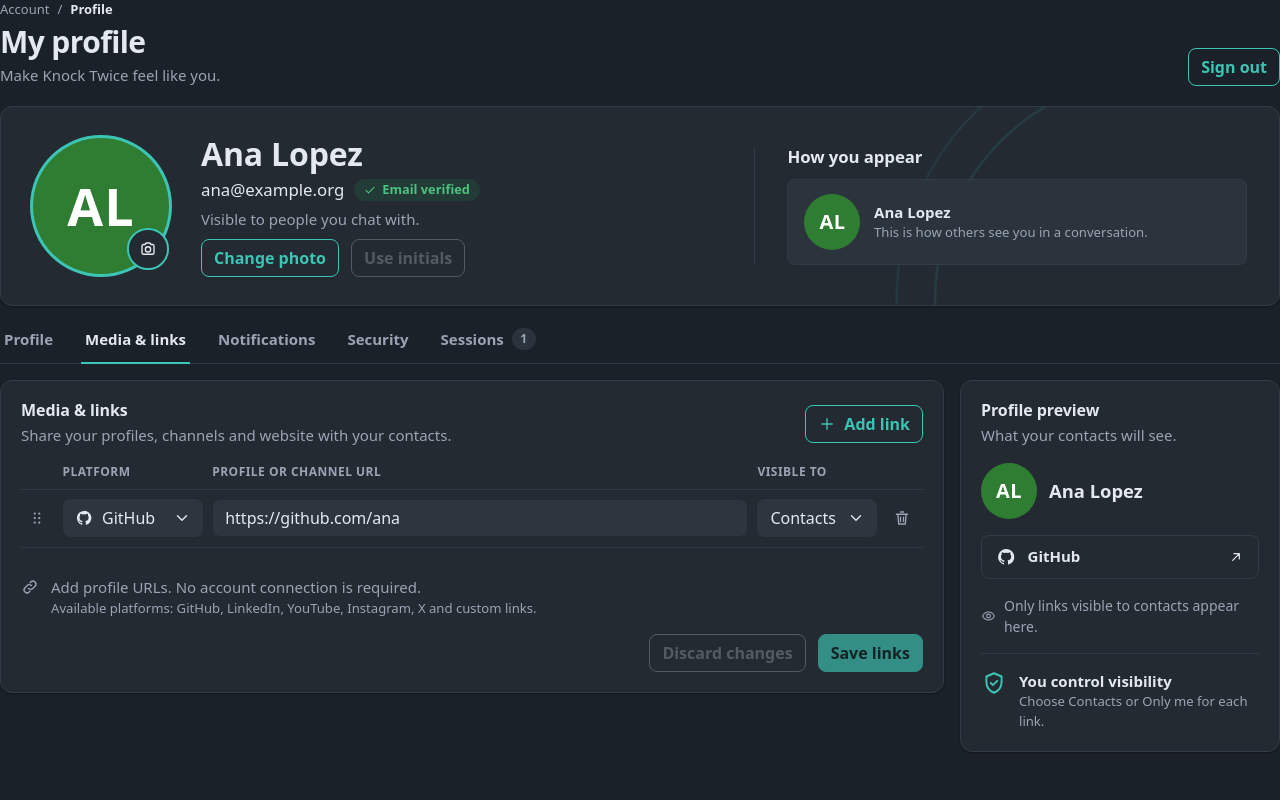
Test: My profile (redesign 2026-11) › edits links: add, reorder, choose who sees them, report a wrong address, then save
Check: the button "Save links" is disabled, box [818,634,923,672]
Click the button "Add link" at (864, 424), box [805,405,923,443]
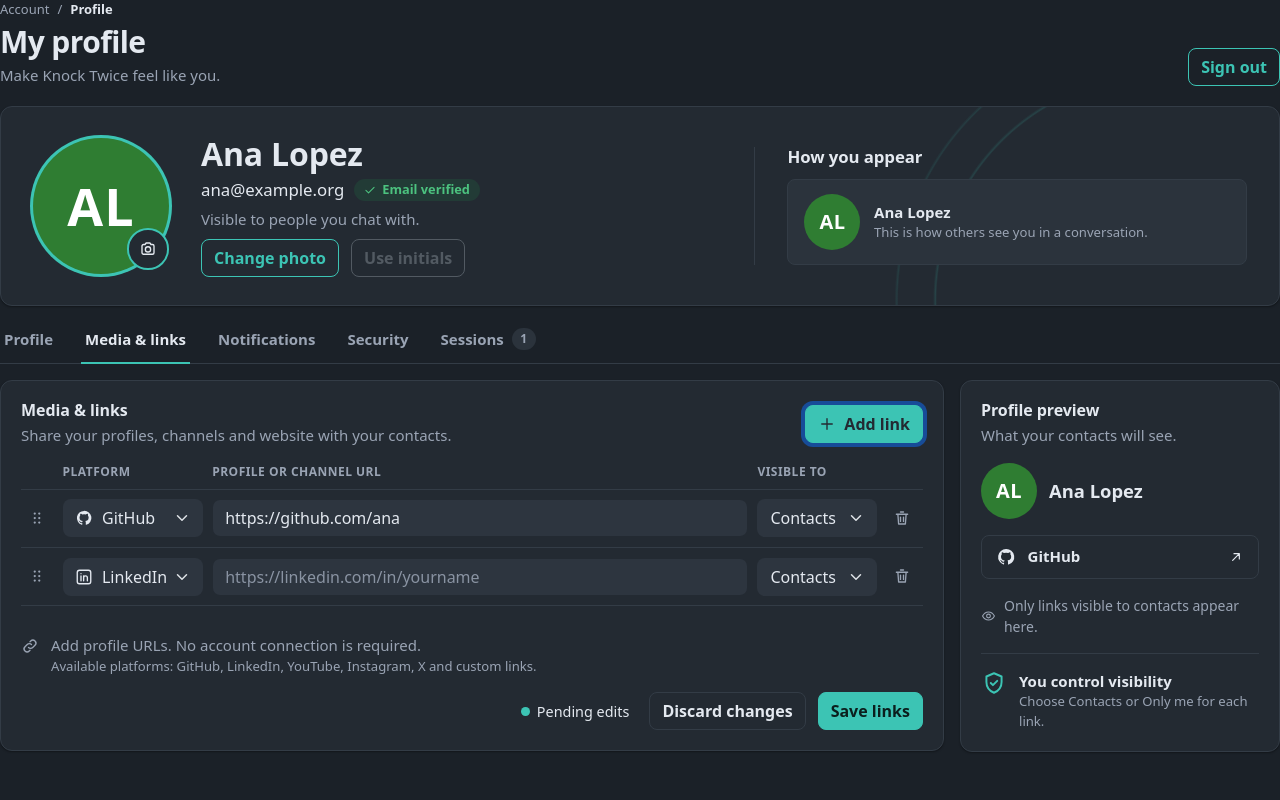
Check: the 3rd dropdown named "Platform" shows "LinkedIn", box [63,558,203,596]
Type "https://example.com/ana" into the field named "LinkedIn address" at (480, 577), box [212,558,748,596]
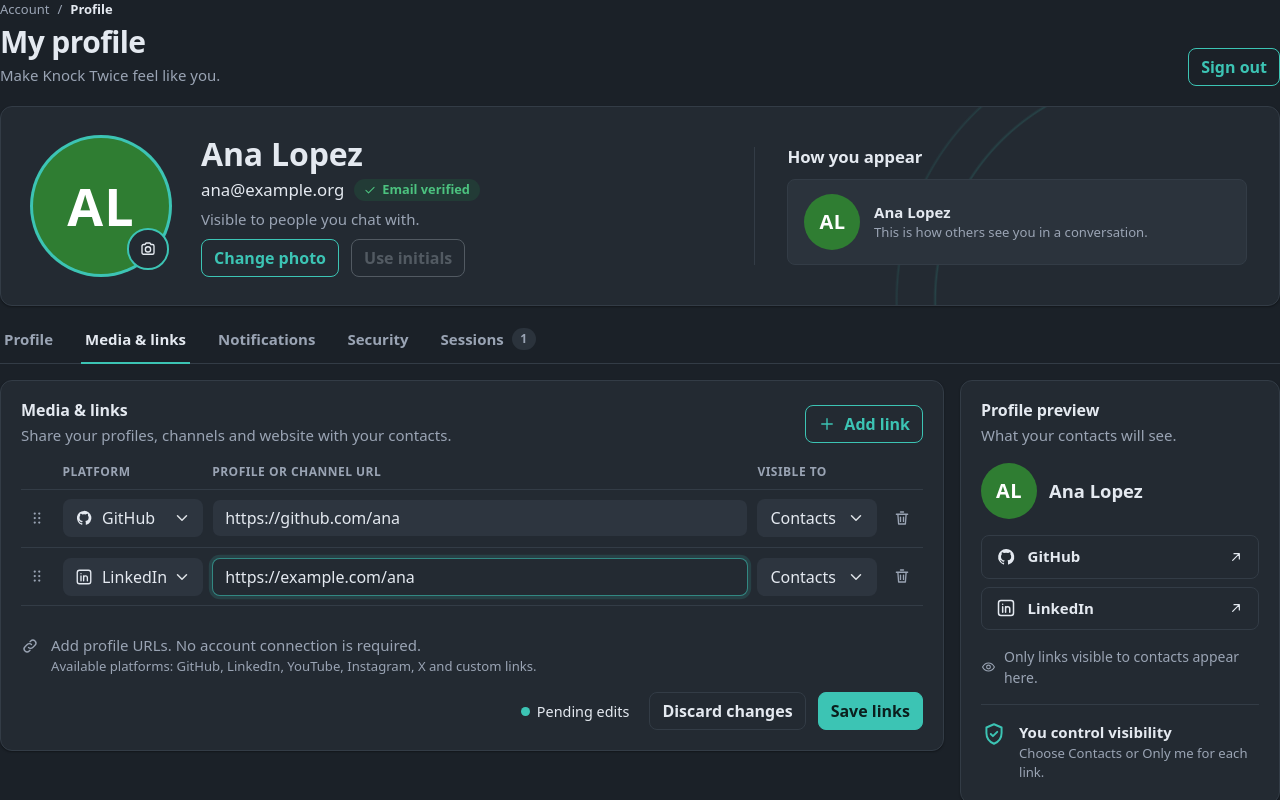
Check: the text "Pending edits" is shown, box [521,701,629,722]
Click the button "Save links" at (870, 711), box [818,692,923,730]
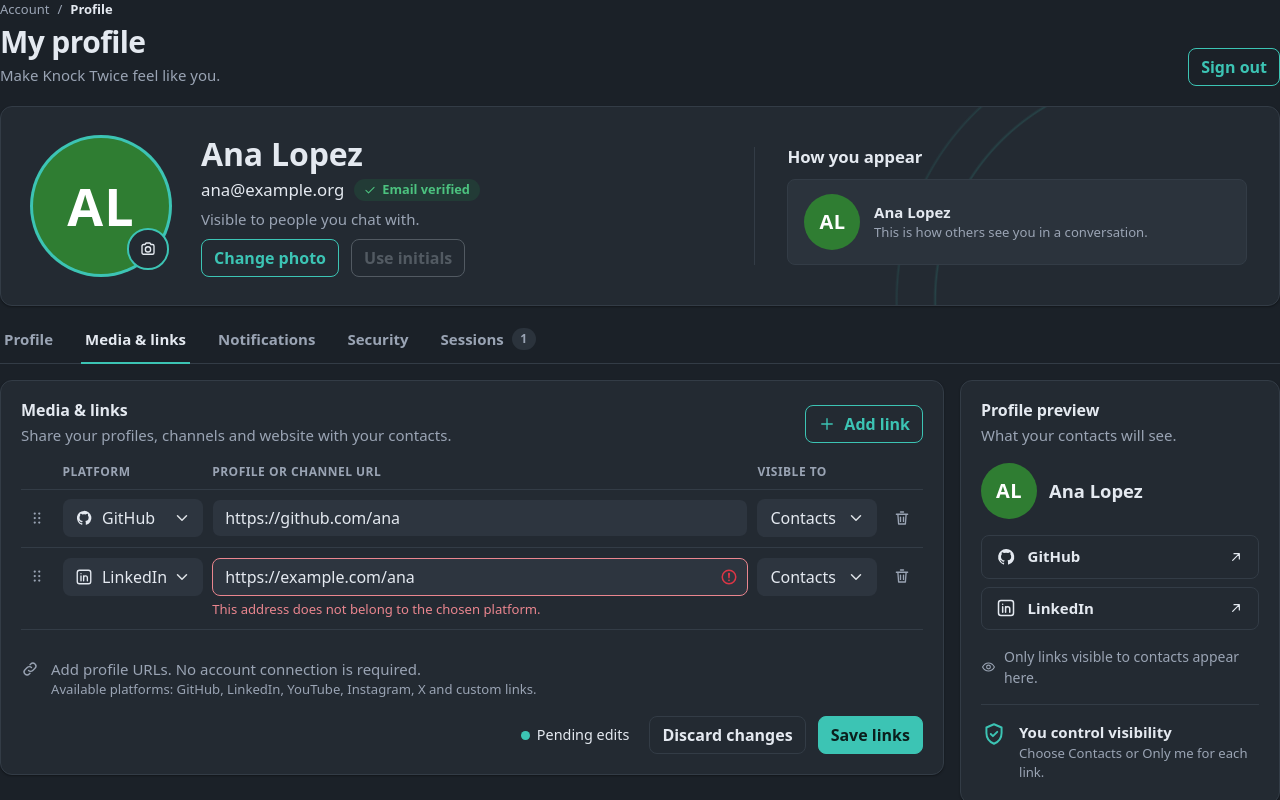
Check: the text "This address does not belong to the chosen platform." is shown, box [212,600,541,618]
Replace the text in the 2nd field named "LinkedIn address" with "https://linkedin.com/in/ana" at (480, 577), box [212,558,748,596]
Select "Only me" in the 4th dropdown named "Visible to" at (817, 577), box [757,558,877,596]
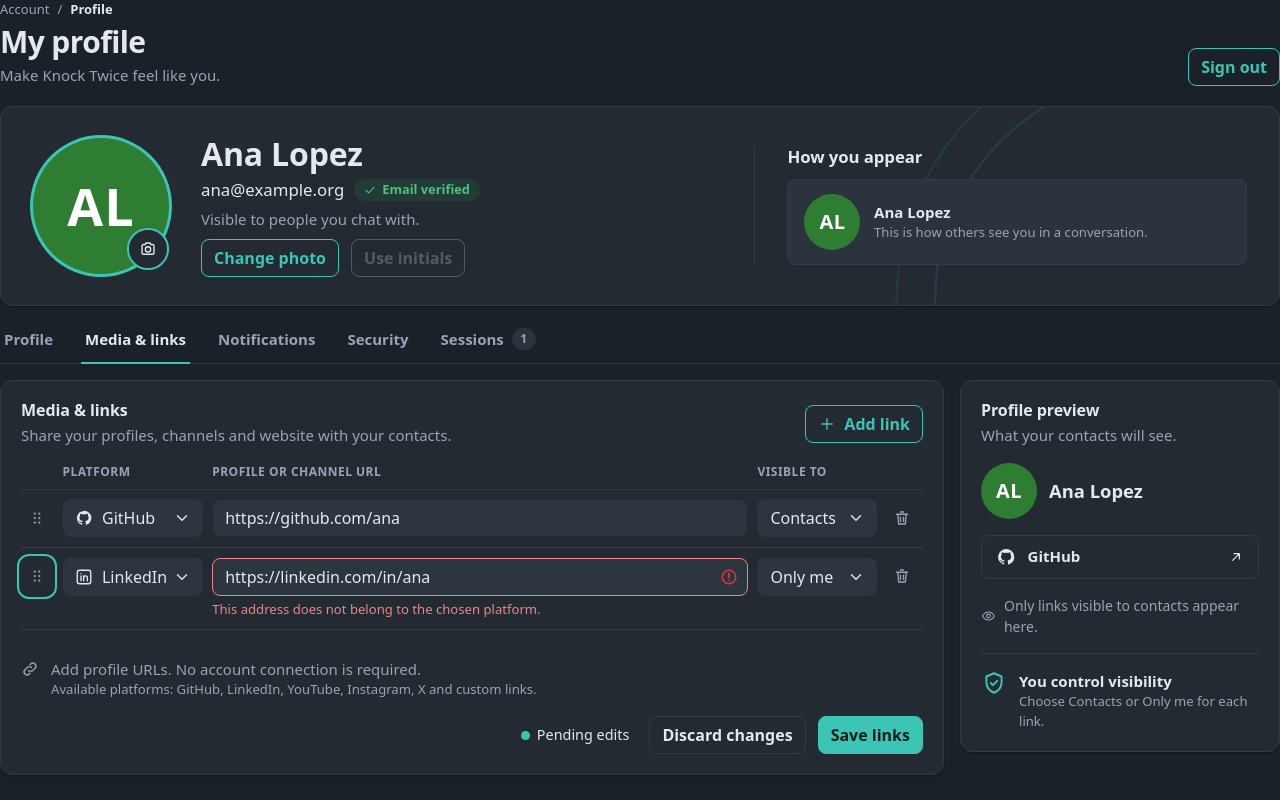
Press Arrowup
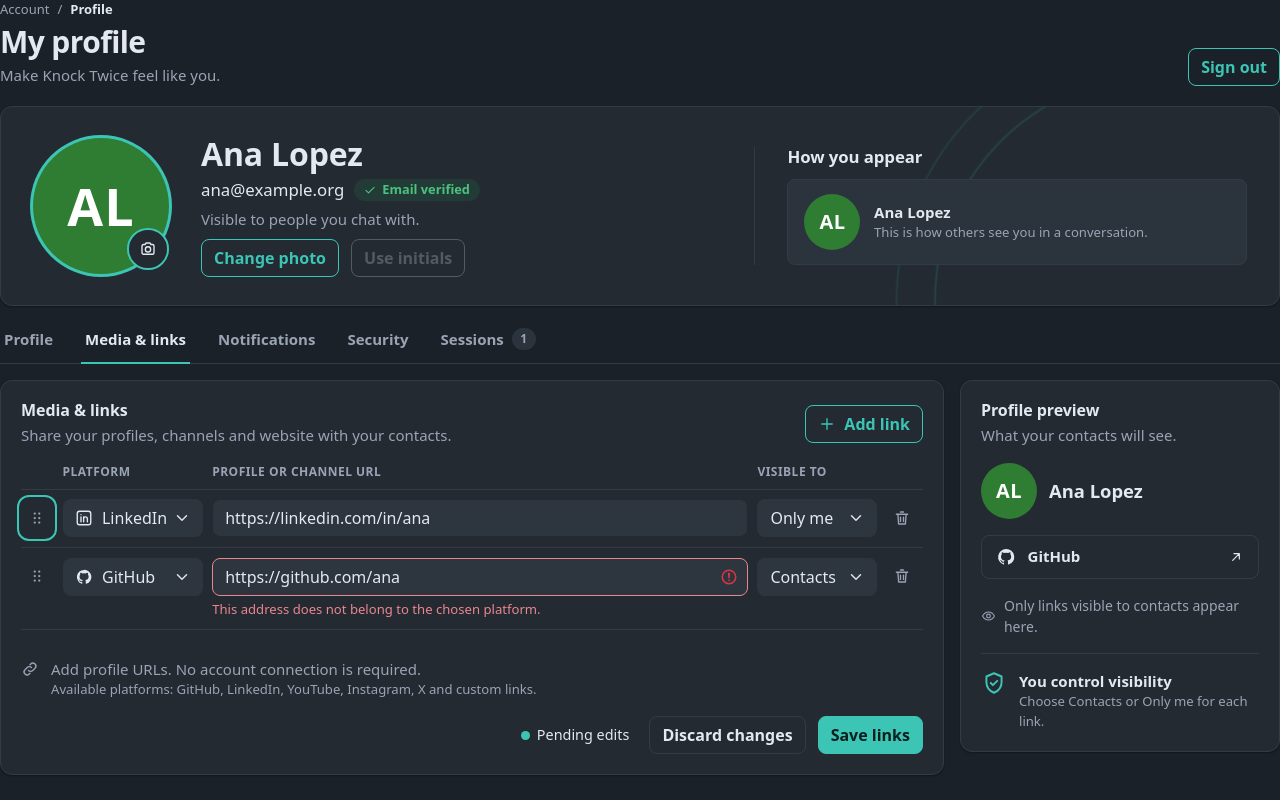
Click the button "Save links" at (870, 735), box [818,716,923,754]
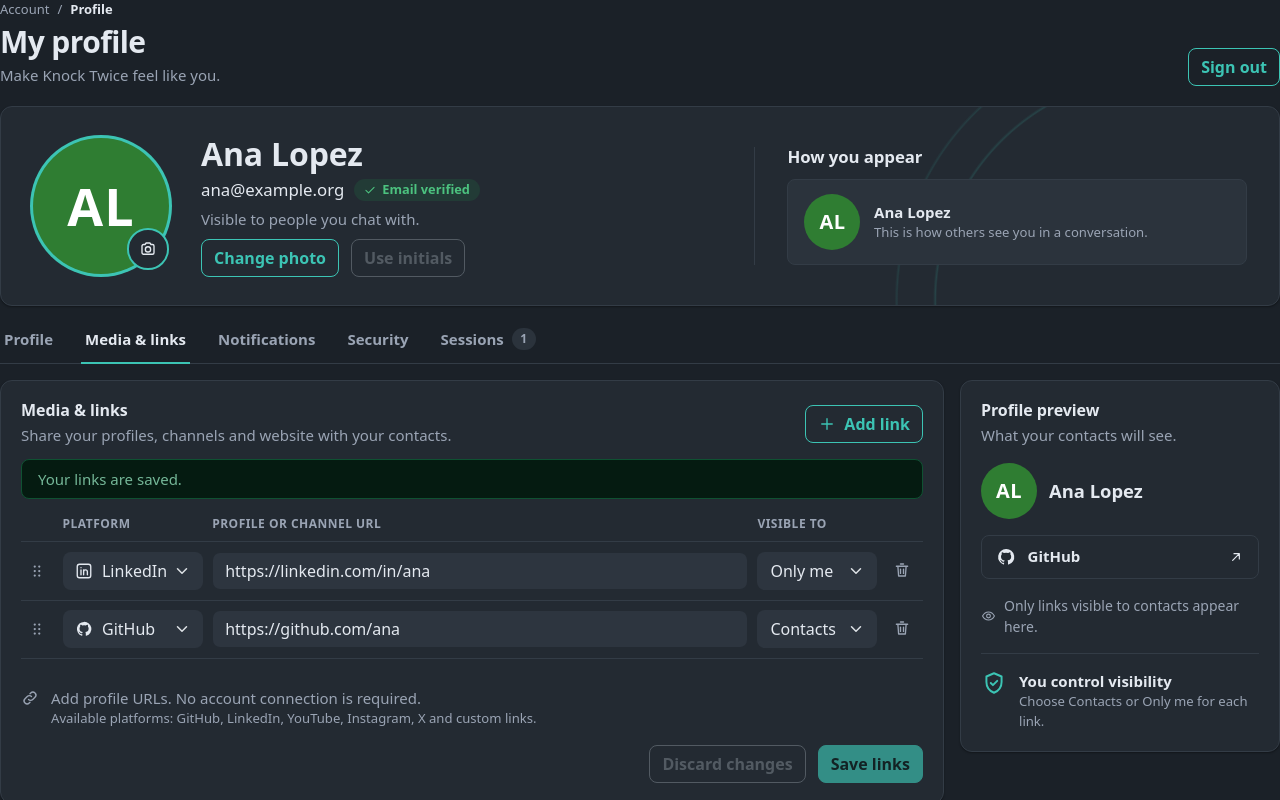
Check: the text "Your links are saved." is shown, box [21,459,923,499]
